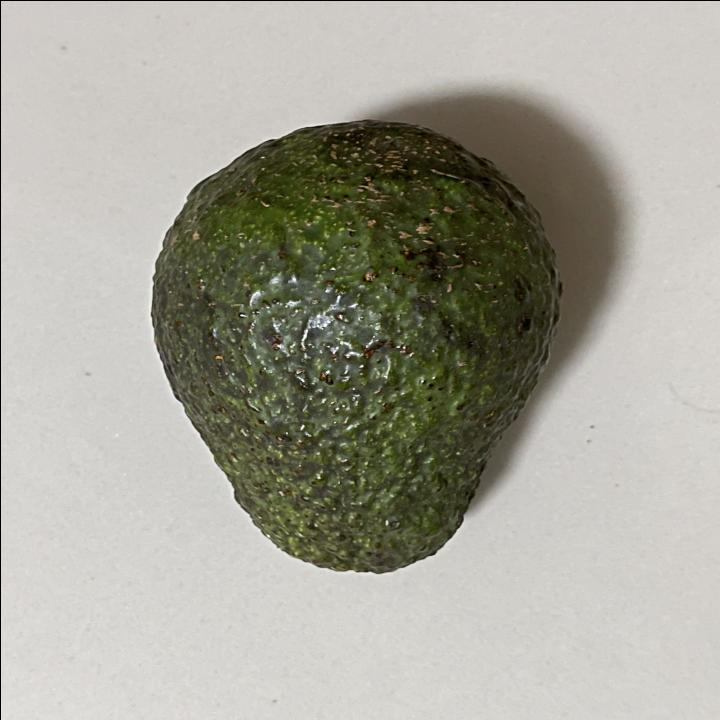Level1: (131, 100, 584, 590)
